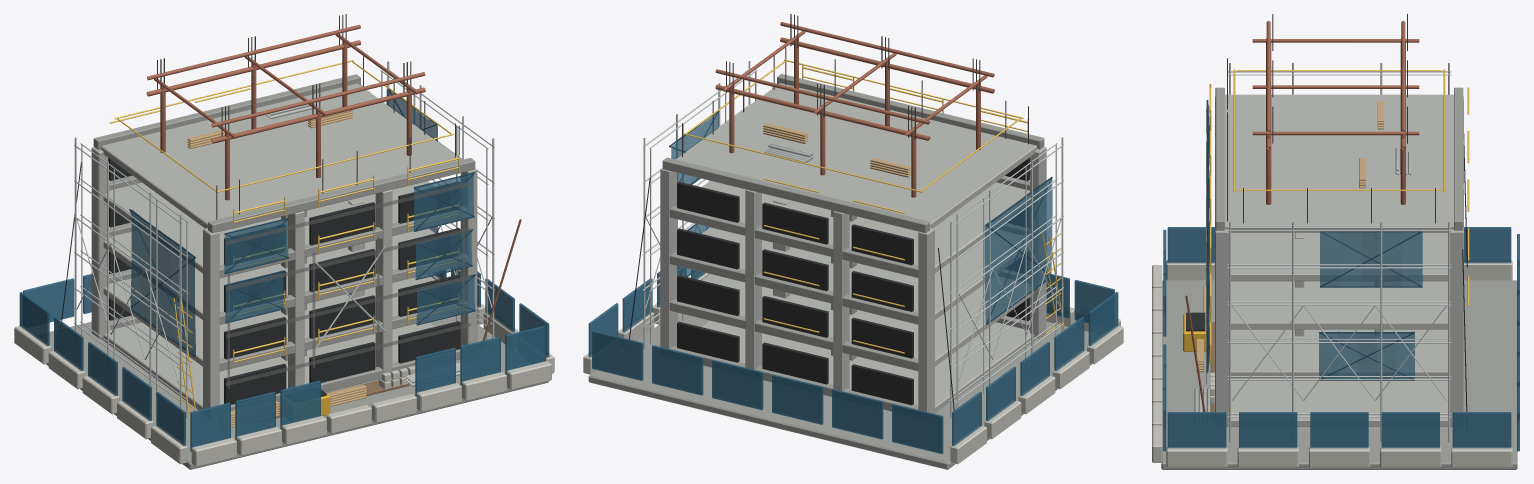
Rendered from construction_highrise_shell.glb.
3 views of the same model, side by side, from view 1: azimuth 30°, elevation 25°; view 2: azimuth 150°, elevation 25°; view 3: azimuth 270°, elevation 25° (orthographic). The views are drawn at different scales.
Parts seen in each view (by area): view 1: concrete_floor_slab_04, side_tarp_left_stack, concrete_floor_slab_00, concrete_floor_slab_03, concrete_floor_slab_02, concrete_floor_slab_01, site_concrete_pad, front_beam_04, front_concrete_column_00, front_concrete_column_02, back_concrete_column_00, front_concrete_column_01 (+63 smaller); view 2: concrete_floor_slab_04, site_concrete_pad, side_tarp_left_stack, concrete_floor_slab_00, concrete_floor_slab_03, concrete_floor_slab_02, concrete_floor_slab_01, back_beam_04, back_concrete_column_00, back_beam_02, back_concrete_column_02, back_concrete_column_03 (+47 smaller); view 3: concrete_floor_slab_04, site_concrete_pad, concrete_floor_slab_02, concrete_floor_slab_03, concrete_floor_slab_01, concrete_floor_slab_00, side_tarp_right_upper, side_tarp_right_lower, front_concrete_column_03, back_concrete_column_03, right_blue_mesh_fence_00, right_blue_mesh_fence_04 (+37 smaller).
Part boxes in pixels (box(x1,y1,x2,y2)): concrete_floor_slab_04: box(100, 83, 461, 228); side_tarp_left_stack: box(130, 209, 195, 355); concrete_floor_slab_00: box(101, 321, 435, 409); concrete_floor_slab_03: box(103, 181, 434, 273); concrete_floor_slab_02: box(103, 228, 435, 319); concrete_floor_slab_01: box(103, 274, 435, 366); site_concrete_pad: box(46, 313, 548, 469); front_beam_04: box(208, 158, 475, 233); front_concrete_column_00: box(203, 228, 219, 408); front_concrete_column_02: box(375, 190, 392, 373); back_concrete_column_00: box(91, 147, 108, 338); front_concrete_column_01: box(288, 211, 304, 387); concrete_floor_slab_04: box(676, 83, 1037, 228); site_concrete_pad: box(588, 313, 1091, 469); side_tarp_left_stack: box(984, 178, 1052, 323); concrete_floor_slab_00: box(702, 320, 1037, 412); concrete_floor_slab_03: box(702, 181, 1033, 272); concrete_floor_slab_02: box(702, 227, 1033, 319); concrete_floor_slab_01: box(702, 274, 1034, 366); back_beam_04: box(662, 157, 929, 232); back_concrete_column_00: box(918, 228, 934, 413); back_beam_02: box(669, 252, 918, 324); back_concrete_column_02: box(745, 189, 761, 369); back_concrete_column_03: box(660, 168, 676, 349); concrete_floor_slab_04: box(1225, 94, 1453, 232); site_concrete_pad: box(1161, 280, 1517, 469); concrete_floor_slab_02: box(1231, 281, 1447, 329); concrete_floor_slab_03: box(1231, 232, 1447, 281); concrete_floor_slab_01: box(1231, 329, 1447, 378); concrete_floor_slab_00: box(1226, 378, 1452, 426); side_tarp_right_upper: box(1320, 232, 1422, 286); side_tarp_right_lower: box(1319, 331, 1414, 379); front_concrete_column_03: box(1215, 228, 1228, 425); back_concrete_column_03: box(1450, 228, 1463, 425); right_blue_mesh_fence_00: box(1167, 412, 1226, 448); right_blue_mesh_fence_04: box(1452, 412, 1511, 448).
Size of the model in its own units: 1.98 by 1.53 by 1.61.
